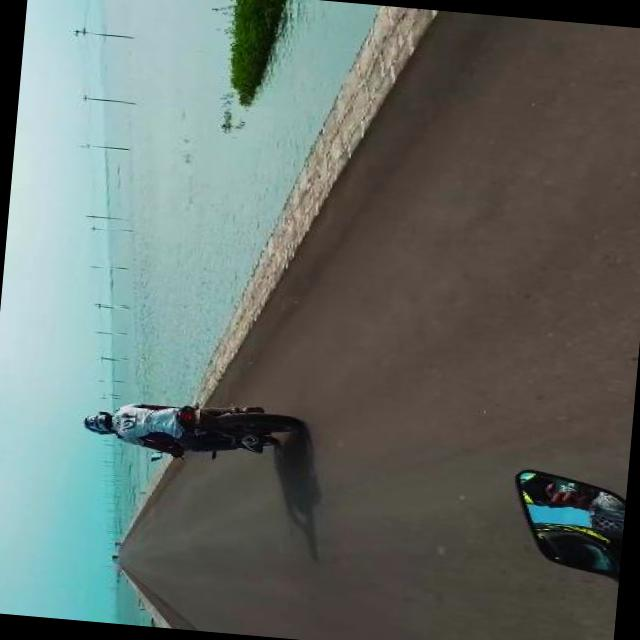motorcycle: (78, 388, 302, 472)
